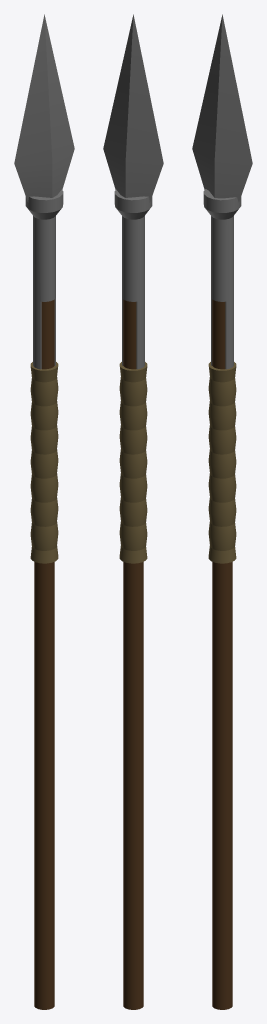
File: spire.fbx
3 views of the same model, side by side, from view 1: azimuth 30°, elevation 25°; view 2: azimuth 150°, elevation 25°; view 3: azimuth 330°, elevation 25° (orthographic).
Parts seen in each view (by area): view 1: Cylinder, Cylinder.001, Cylinder.002; view 2: Cylinder, Cylinder.001, Cylinder.002; view 3: Cylinder, Cylinder.001, Cylinder.002.
Part boxes in pixels (<box>): Cylinder: <box>34,299,54,1009</box>; Cylinder.001: <box>14,14,74,369</box>; Cylinder.002: <box>30,362,58,563</box>; Cylinder: <box>123,299,143,1009</box>; Cylinder.001: <box>103,14,163,369</box>; Cylinder.002: <box>119,362,147,563</box>; Cylinder: <box>212,299,232,1009</box>; Cylinder.001: <box>192,14,252,369</box>; Cylinder.002: <box>208,362,236,563</box>.
Bounding box in the file's own units: 17.74 × 278 × 9.6.
